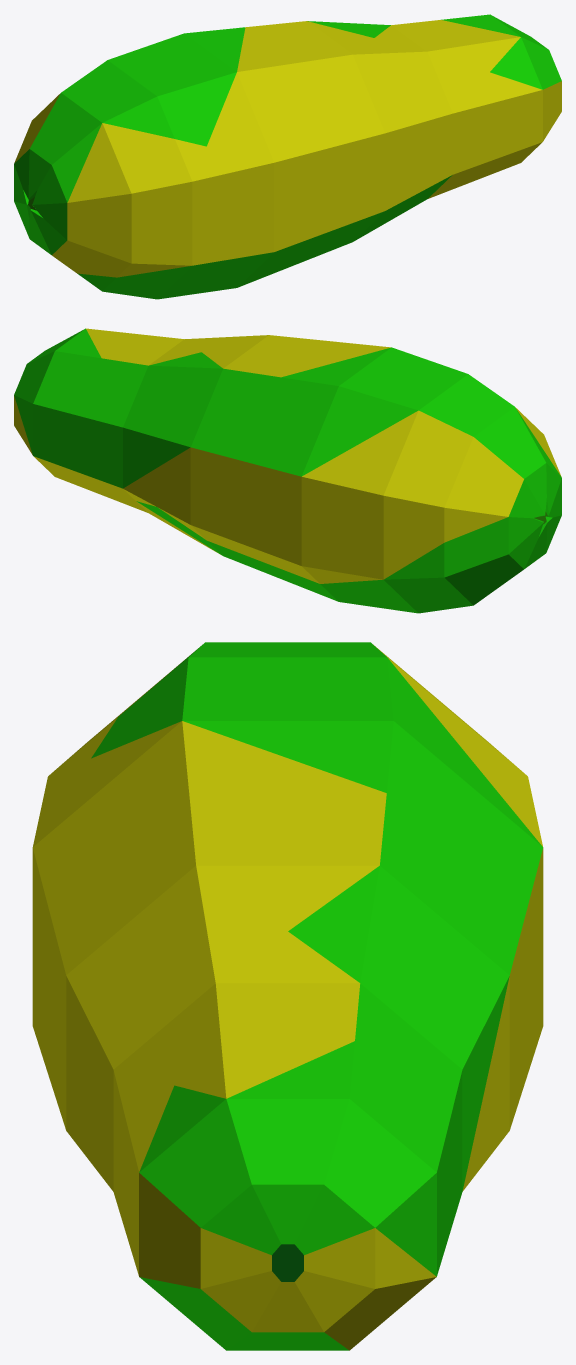
File: papaya01.obj
The picture shows the model from 3 angles, top to bottom: view 1: azimuth 30°, elevation 25°; view 2: azimuth 150°, elevation 25°; view 3: azimuth 270°, elevation 25°; orthographic projection. The views are drawn at different scales.
Parts seen in each view (by area): view 1: Cylinder.001_Cylinder.002; view 2: Cylinder.001_Cylinder.002; view 3: Cylinder.001_Cylinder.002.
Boxes of the visible parts, x1,y1,x2,y2 form: Cylinder.001_Cylinder.002: (14, 14, 561, 299); Cylinder.001_Cylinder.002: (14, 328, 561, 613); Cylinder.001_Cylinder.002: (32, 642, 543, 1350).
Size of the model in its own units: 0.2347 by 0.094 by 0.1007.
Materials: 1 (1 with a texture image).
